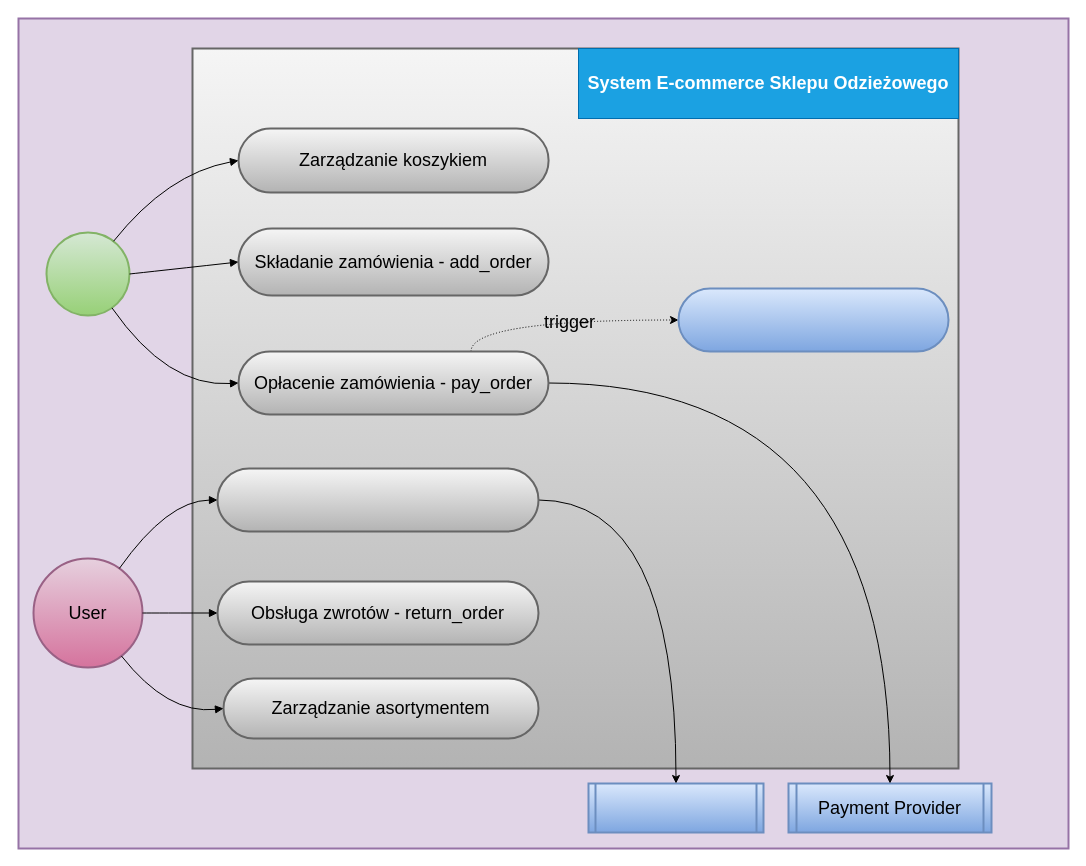
The diagram is 1086 pixels wide and 866 high, and some of its shapes have lost their labels. The centre of each missing label's shape, as x and y in pixels:
"Customer" goes at (x=87, y=273).
"Generowanie Faktury - add_invoice_lines" goes at (x=813, y=319).
"Shipping Provider" goes at (x=675, y=807).
"Wysyłka towaru - prepare & ship" goes at (x=377, y=499).
